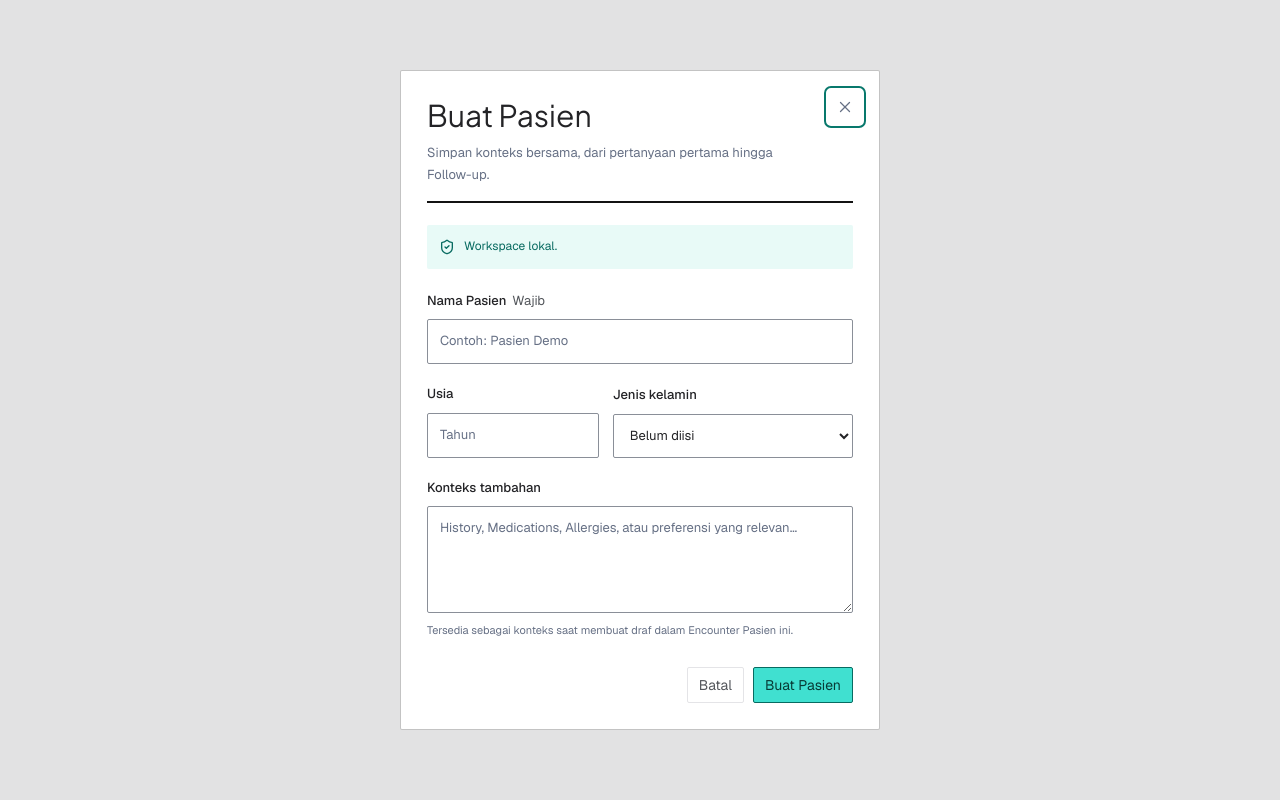
Scenario: PatientForm age › refuses an age outside 0 to 130 and says why
Later steps or results of the test are not shown.
Type "Pasien Uji" into the field with placeholder "Contoh: Pasien Demo".
click(640, 342); type("Pasien Uji")  # box [427, 319, 853, 364]
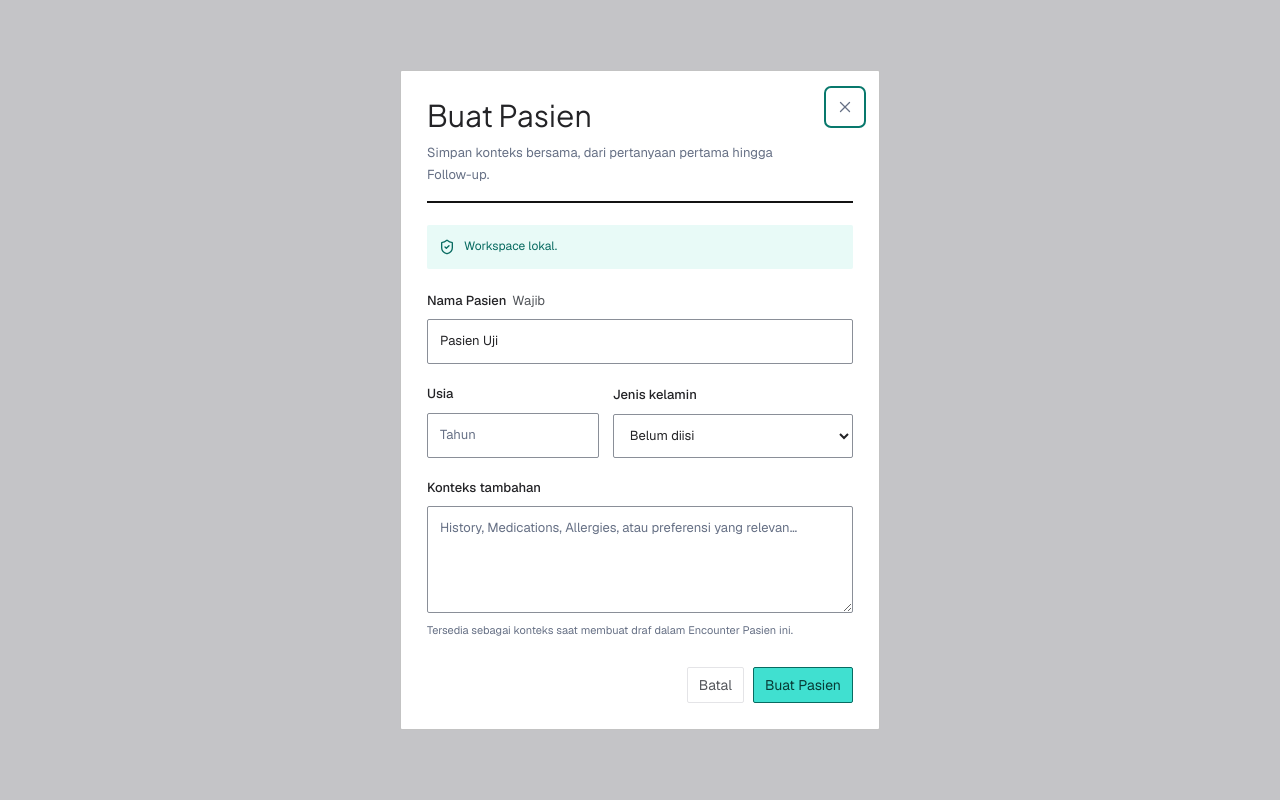
Type "999" into the number field with placeholder "Tahun".
click(513, 435); type("999")  # box [427, 413, 599, 458]
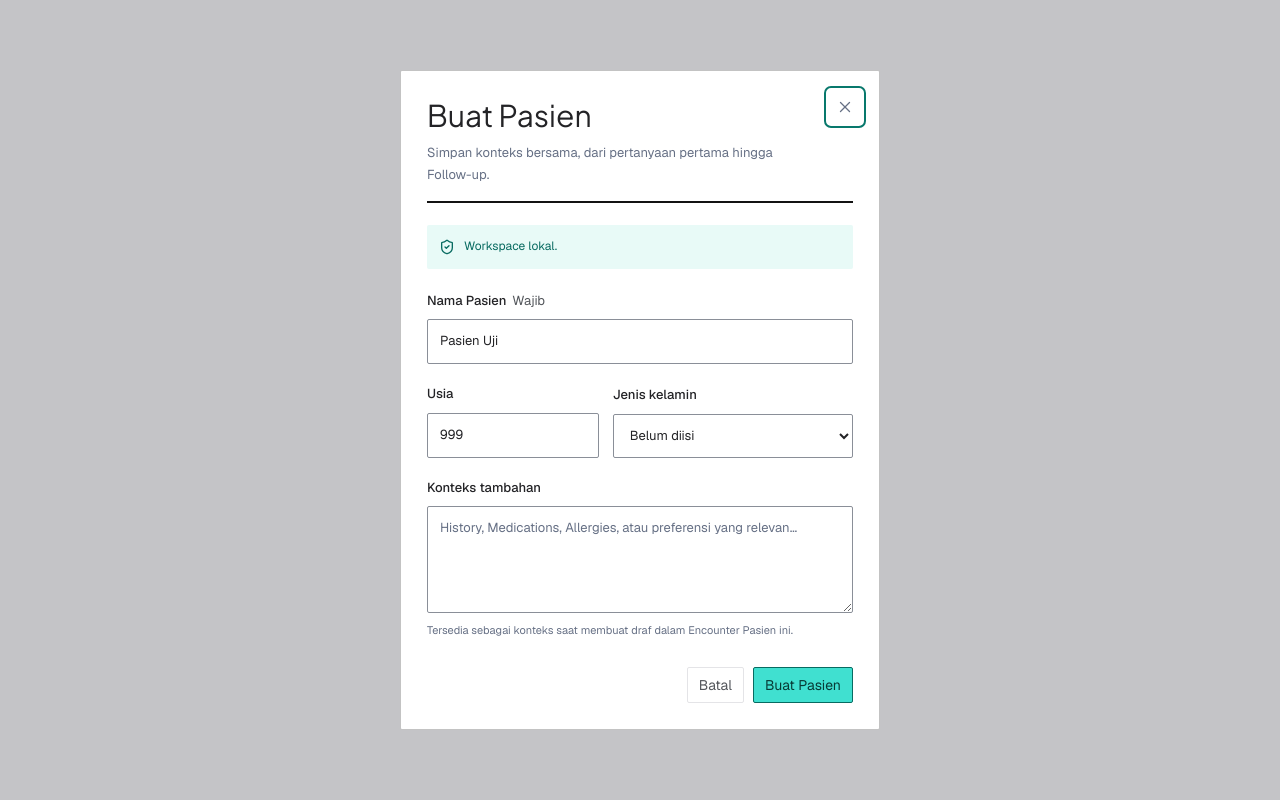
Click the button "Buat Pasien".
click(803, 685)  # box [753, 667, 853, 703]
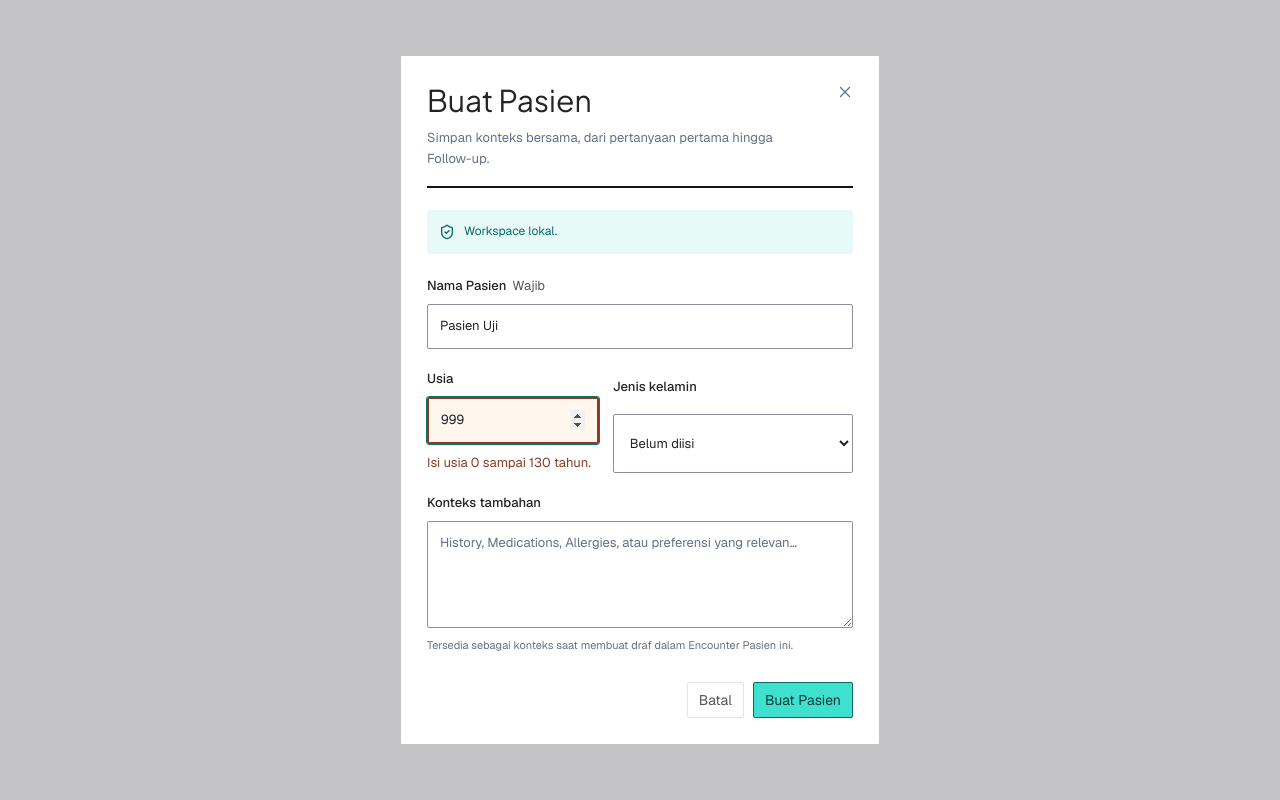
Now the text "Isi usia 0 sampai 130 tahun." is shown, box [427, 453, 599, 473]
